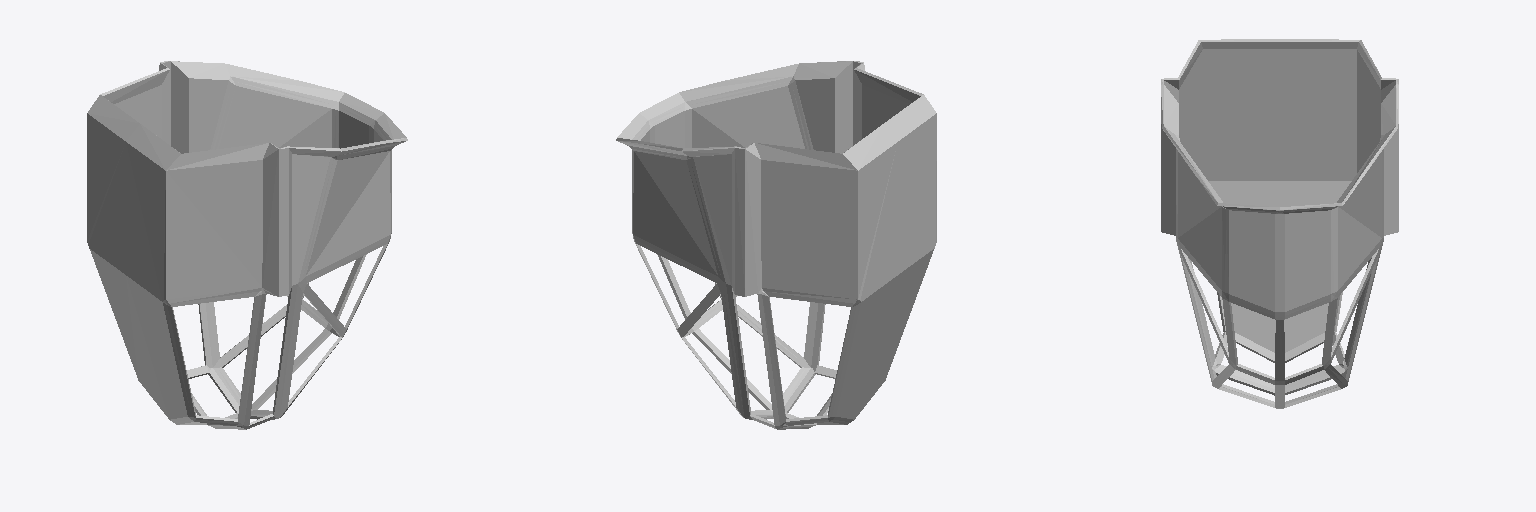
Rendered from self-2-scaled.obj.
The picture shows the model from 3 angles: view 1: azimuth 30°, elevation 25°; view 2: azimuth 150°, elevation 25°; view 3: azimuth 270°, elevation 25°; orthographic projection.
Parts seen in each view (by area): view 1: Trident_Space_Fighter001_Trident_Space_Fighter001.001; view 2: Trident_Space_Fighter001_Trident_Space_Fighter001.001; view 3: Trident_Space_Fighter001_Trident_Space_Fighter001.001.
Part boxes in pixels (x1,y1,x2,y2): Trident_Space_Fighter001_Trident_Space_Fighter001.001: (87,61,407,429); Trident_Space_Fighter001_Trident_Space_Fighter001.001: (616,61,936,429); Trident_Space_Fighter001_Trident_Space_Fighter001.001: (1161,39,1398,408).
Bounding box in the file's own units: 23.45 × 27.69 × 18.63.